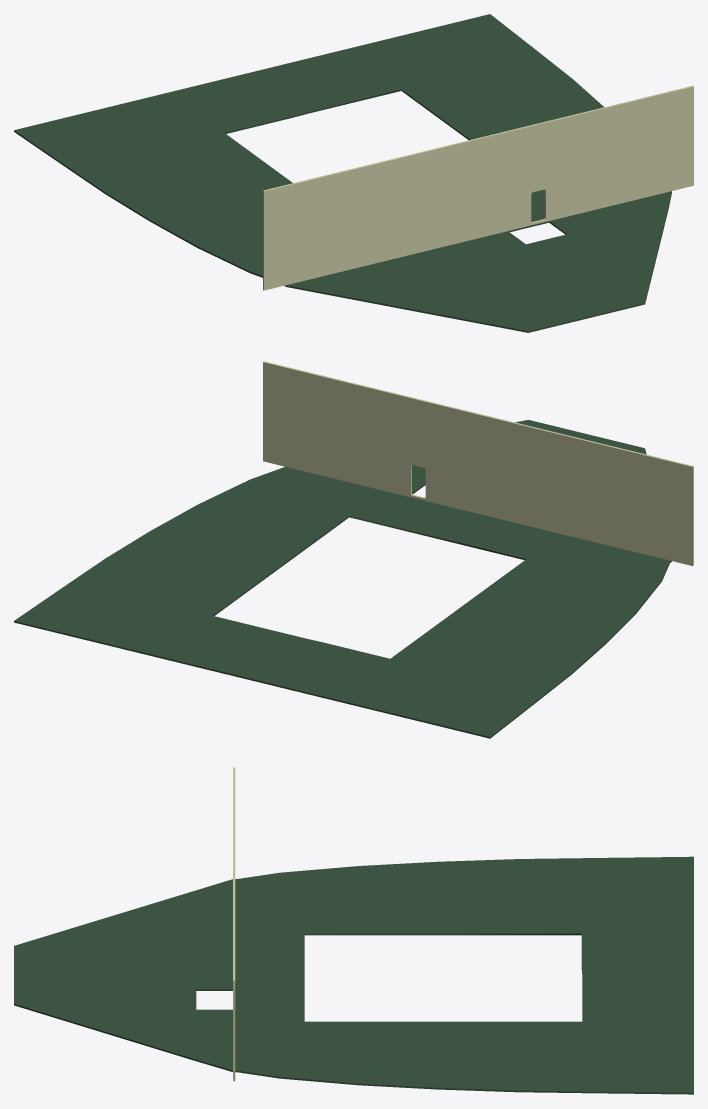
Rendered from 3rdDeck.fbx.
3 views of the same model, one above another, from view 1: azimuth 30°, elevation 25°; view 2: azimuth 150°, elevation 25°; view 3: azimuth 270°, elevation 25° (orthographic).
Parts seen in each view (by area): view 1: 3_3rdDeck, 3rdDeckBackwall; view 2: 3_3rdDeck, 3rdDeckBackwall; view 3: 3_3rdDeck, 3rdDeckBackwall.
Boxes of the visible parts, box(x1,y1,x2,y2) form: 3_3rdDeck: box(14, 14, 671, 332); 3rdDeckBackwall: box(263, 85, 693, 290); 3_3rdDeck: box(14, 420, 671, 738); 3rdDeckBackwall: box(263, 361, 693, 565); 3_3rdDeck: box(14, 856, 693, 1094); 3rdDeckBackwall: box(233, 767, 235, 1081).
Bounding box in the file's own units: 2990 × 605 × 3640.
